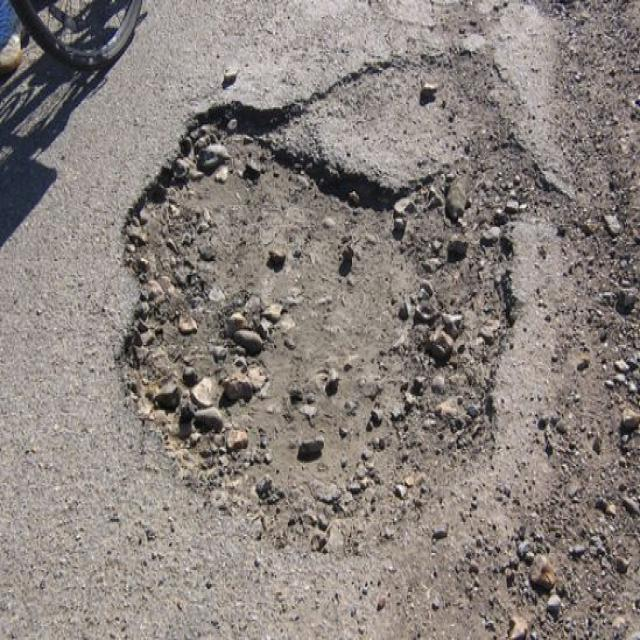Pothole: (105, 79, 533, 553)
